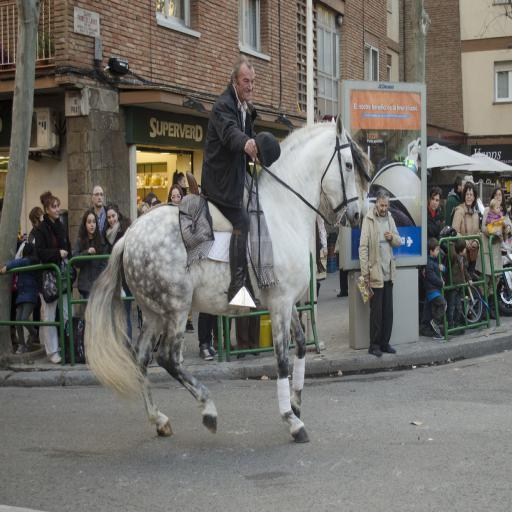horse: (81, 110, 376, 444)
